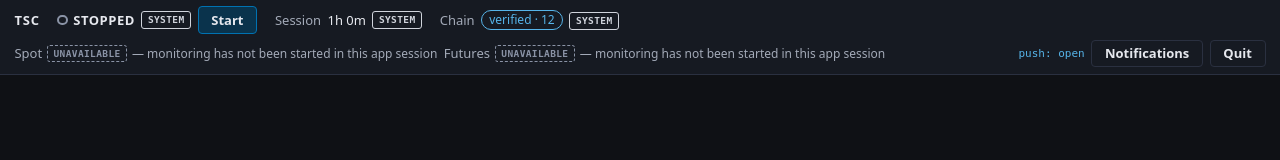
Test: StatusBar › does not send a mutation without a token
This screenshot has width=1280, height=160.
Click the button "Start" at (227, 20), box [198, 6, 257, 34]
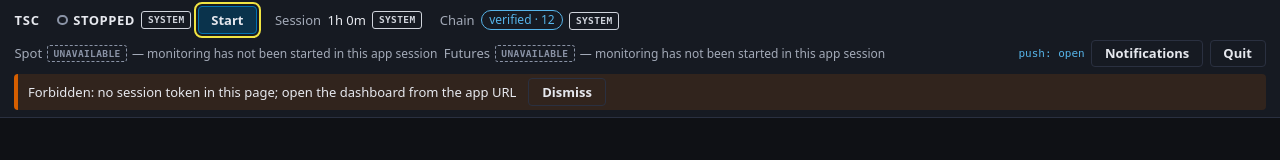
Check: the text "no session token" is shown, box [28, 83, 516, 101]
